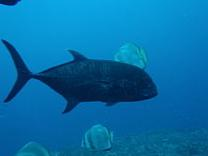Carangidae -Jacks-: (0, 36, 158, 117)
Ephippidae -Spadefishes-: (79, 120, 116, 152)
